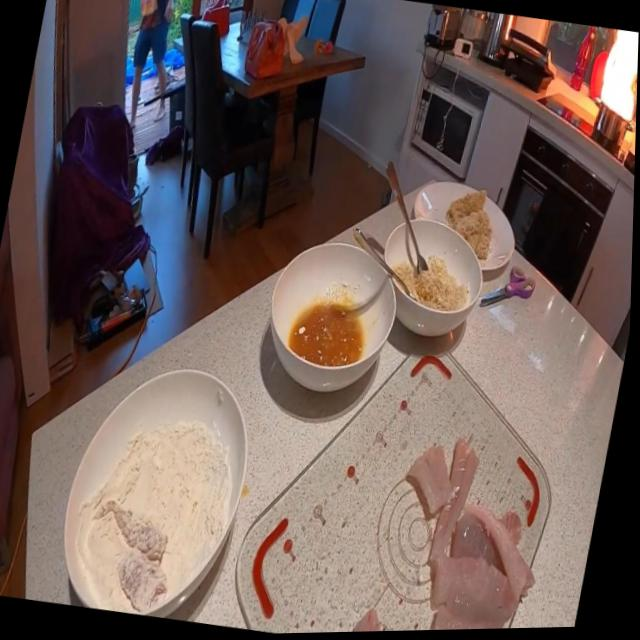fire: (592, 31, 639, 130)
